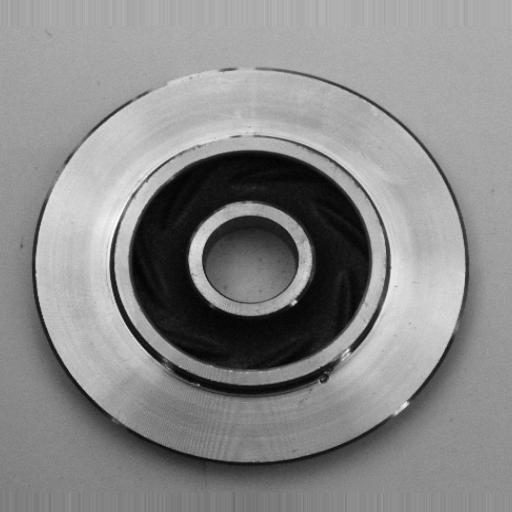pit: (313, 360, 340, 392)
scratch: (154, 50, 250, 92)
unpolished_casting: (30, 62, 473, 468)
